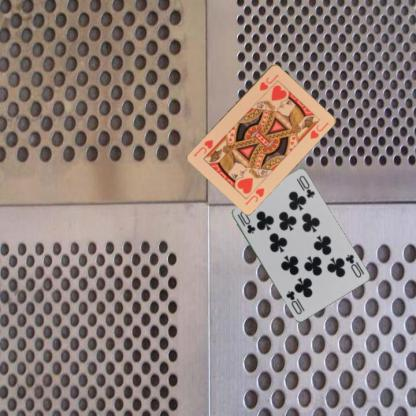10c: (234, 208, 256, 235), (342, 251, 362, 279)
Jh: (242, 185, 266, 206), (257, 72, 280, 92)
